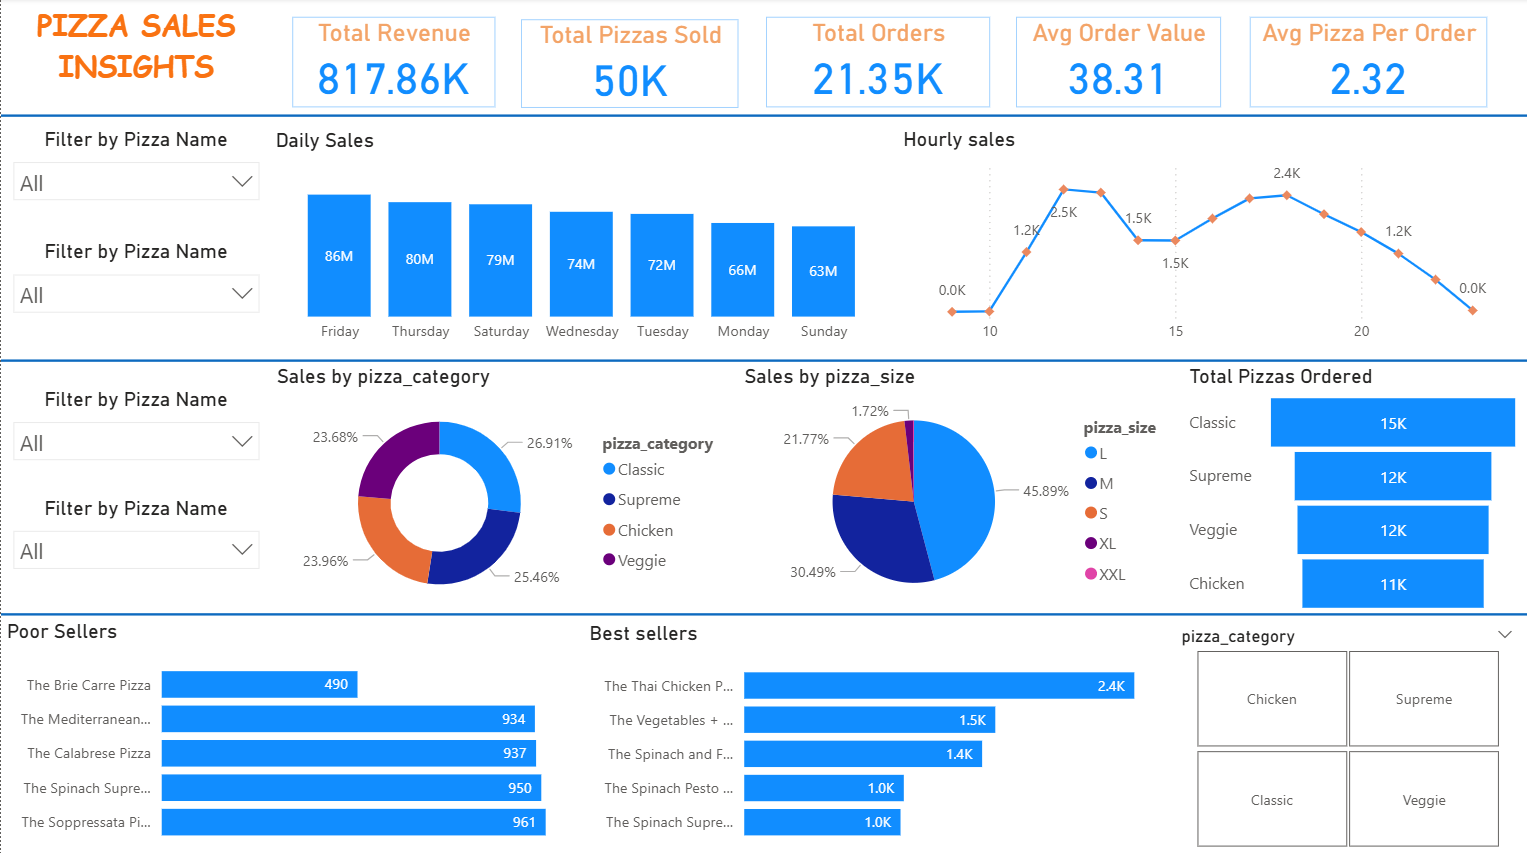

What the dashboard file says about the page in this screenshot:
{"tool":"powerbi","page":{"name":"Page 1","canvas":[1280,720],"ordinal":0},"visuals":[{"type":"barChart","title":"Poor Sellers","fields":{"Category":["pizza_sales.pizza_name"],"Y":["Sum(pizza_sales.quantity)"]},"box":[0,520.9,488.4,198.8],"z":0},{"type":"donutChart","title":"Sales by pizza_category","fields":{"Category":["pizza_sales.pizza_category"],"Y":["Sum(pizza_sales.total_price)"]},"box":[226.7,297.7,391.9,223.3],"z":1000},{"type":"pieChart","title":"Sales by pizza_size","fields":{"Category":["pizza_sales.pizza_size"],"Y":["Sum(pizza_sales.total_price)"]},"box":[618.8,297.8,373.8,221.2],"z":2000},{"type":"funnel","title":"Total Pizzas Ordered","fields":{"Category":["pizza_sales.pizza_category"],"Y":["Sum(pizza_sales.quantity)"]},"box":[991.9,297.7,288.4,223.3],"z":3000},{"type":"barChart","title":"Best sellers","fields":{"Category":["pizza_sales.pizza_name"],"Y":["Sum(pizza_sales.quantity)"]},"box":[488.4,522.1,488.4,197.7],"z":4000},{"type":"slicer","fields":{"Values":["pizza_sales.pizza_category"]},"box":[976.7,522.1,303.5,196.5],"z":5000},{"type":"clusteredColumnChart","title":"Daily Sales","fields":{"Category":["pizza_sales.Order Day"],"Y":["Sum(pizza_sales.order_id)"]},"box":[226.7,109.3,524.4,188.4],"z":6000},{"type":"card","title":"Total Revenue","fields":{"Values":["Sum(pizza_sales.total_price)"]},"box":[244,16,170,76],"z":7000},{"type":"card","title":"Total Orders","fields":{"Values":["Count(pizza_sales.order_id)"]},"box":[641,20,188,72],"z":8000},{"type":"card","title":"Avg Order Value","fields":{"Values":["pizza_sales.Average_Order_Value"]},"box":[851.2,19.8,172.1,72.1],"z":9000},{"type":"card","title":"Total Pizzas Sold","fields":{"Values":["Sum(pizza_sales.quantity)"]},"box":[436.5,18,182,74],"z":10000},{"type":"card","title":"Avg Pizza Per Order","fields":{"Values":["pizza_sales.Average_Pizza_Per_Order"]},"box":[1046,20,200,72],"z":11000},{"type":"lineChart","title":"Hourly sales","fields":{"Category":["pizza_sales.Order Hour"],"Y2":["Count(pizza_sales.order_id)"]},"box":[751.2,108.1,529.1,189.5],"z":12000},{"type":"slicer","title":"Filter by Pizza Name","fields":{"Values":["pizza_sales.pizza_size"]},"box":[0,409.3,226.7,109.3],"z":13000},{"type":"slicer","title":"Filter by Pizza Name","fields":{"Values":["pizza_sales.pizza_size"]},"box":[0,315.1,226.7,94.2],"z":14000},{"type":"slicer","title":"Filter by Pizza Name","fields":{"Values":["pizza_sales.pizza_size"]},"box":[0,202.3,226.7,94.2],"z":15000},{"type":"slicer","title":"Filter by Pizza Name","fields":{"Values":["pizza_sales.pizza_size"]},"box":[0,108.1,226.7,94.2],"z":16000},{"type":"textbox","box":[0,1.2,226.7,107],"z":16001}]}

Visuals, with their boxes in screenshot pixels (x1, y1, x2, y2), scaled from the page's 1280x720 canvas onto the 1527x853 screenshot:
"Poor Sellers" barChart: BBox(0, 617, 583, 852)
"Sales by pizza_category" donutChart: BBox(270, 353, 738, 617)
"Sales by pizza_size" pieChart: BBox(738, 353, 1184, 615)
"Total Pizzas Ordered" funnel: BBox(1183, 353, 1526, 617)
"Best sellers" barChart: BBox(583, 619, 1165, 852)
slicer - pizza_sales.pizza_category: BBox(1165, 619, 1526, 851)
"Daily Sales" clusteredColumnChart: BBox(270, 129, 896, 353)
"Total Revenue" card: BBox(291, 19, 494, 109)
"Total Orders" card: BBox(765, 24, 989, 109)
"Avg Order Value" card: BBox(1015, 23, 1221, 109)
"Total Pizzas Sold" card: BBox(521, 21, 738, 109)
"Avg Pizza Per Order" card: BBox(1248, 24, 1486, 109)
"Hourly sales" lineChart: BBox(896, 128, 1526, 353)
"Filter by Pizza Name" slicer: BBox(0, 485, 270, 614)
"Filter by Pizza Name" slicer: BBox(0, 373, 270, 485)
"Filter by Pizza Name" slicer: BBox(0, 240, 270, 351)
"Filter by Pizza Name" slicer: BBox(0, 128, 270, 240)
textbox: BBox(0, 1, 270, 128)
